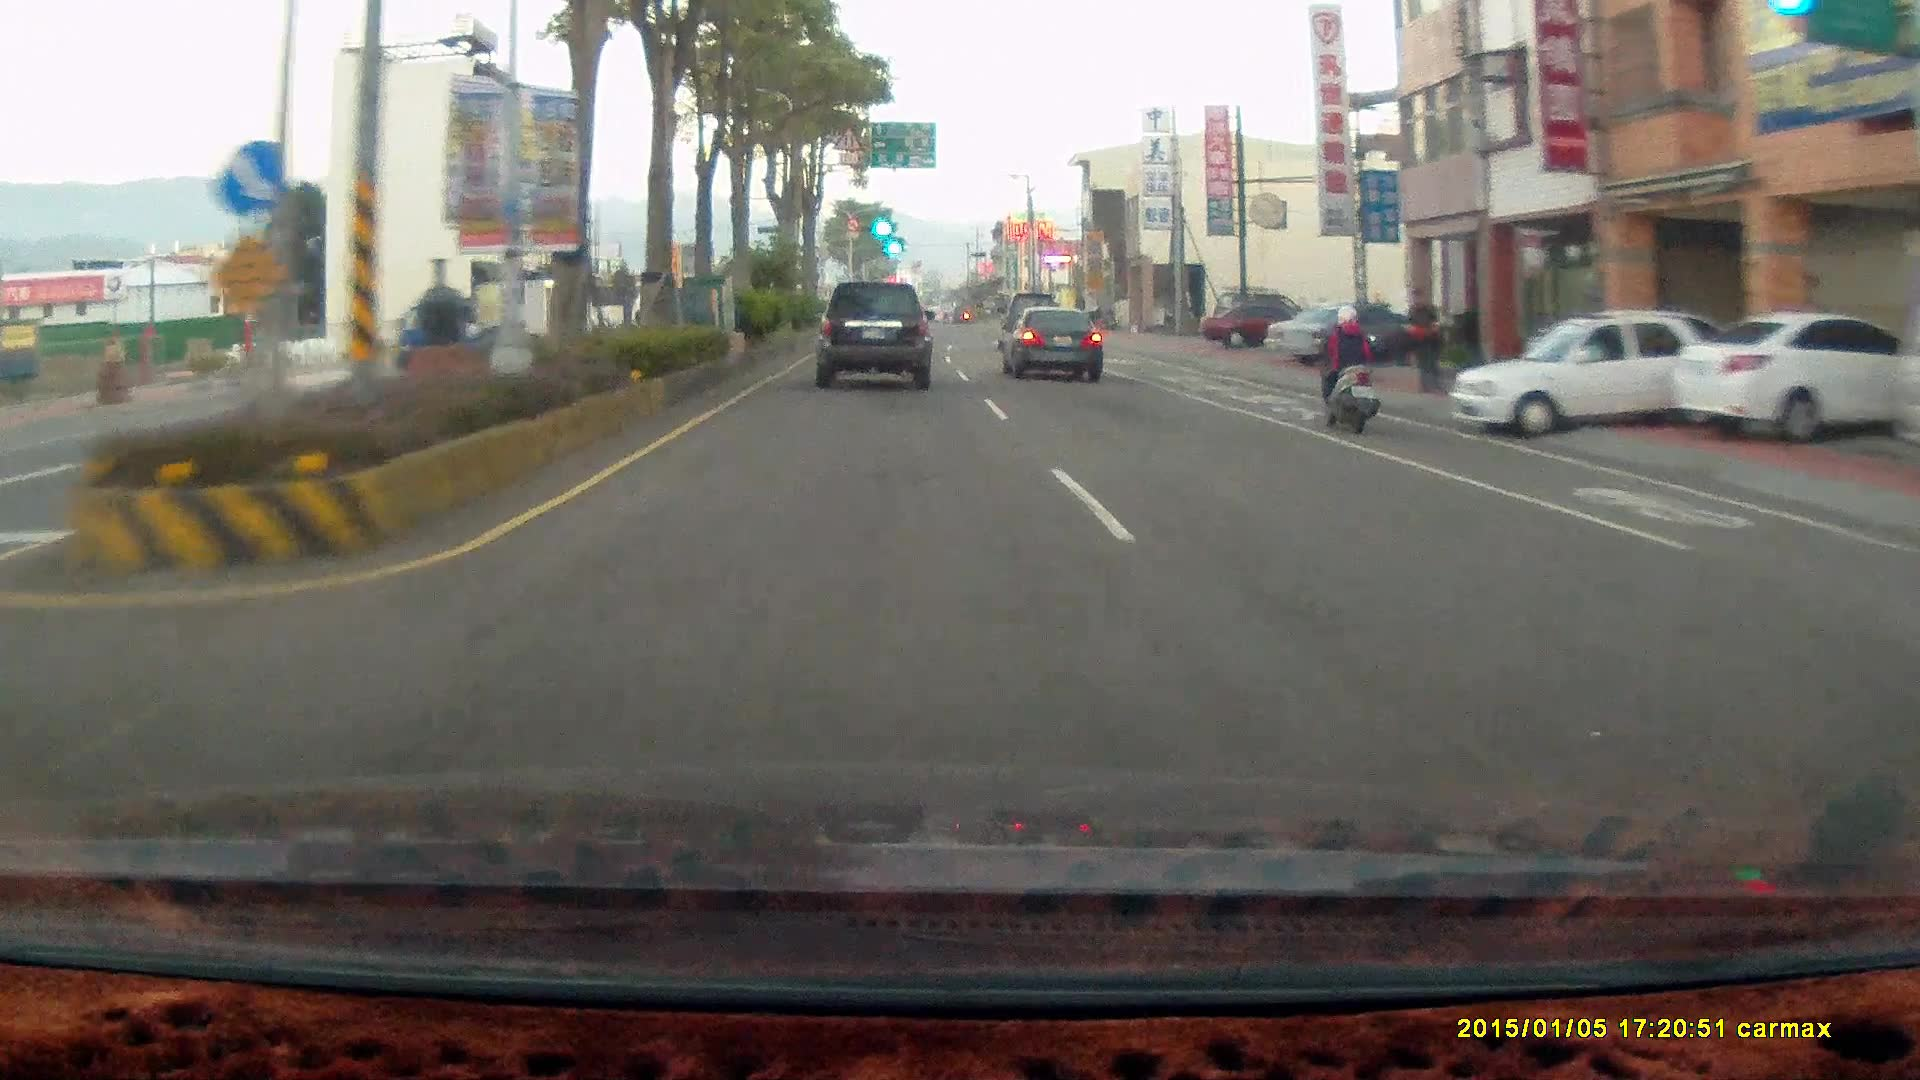pedestrian: (1398, 281, 1446, 392)
rider: (1304, 294, 1390, 441), (1313, 297, 1380, 428)
vehicle: (1450, 309, 1757, 433), (1450, 311, 1743, 435), (1669, 311, 1920, 440), (1671, 313, 1904, 442), (810, 277, 940, 394), (814, 278, 936, 388), (1264, 294, 1424, 363), (1264, 299, 1424, 365), (997, 303, 1102, 381), (1002, 306, 1105, 382), (1888, 285, 1920, 466), (1201, 302, 1321, 349)
